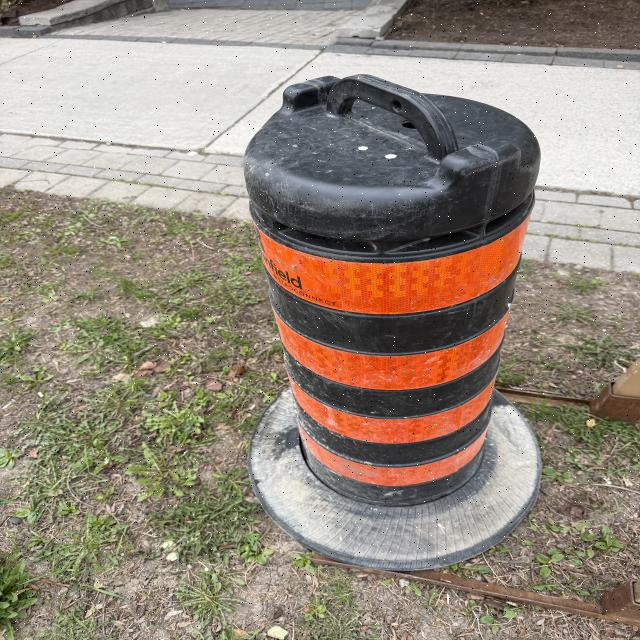Teraffic Barrel: (245, 76, 540, 568)
